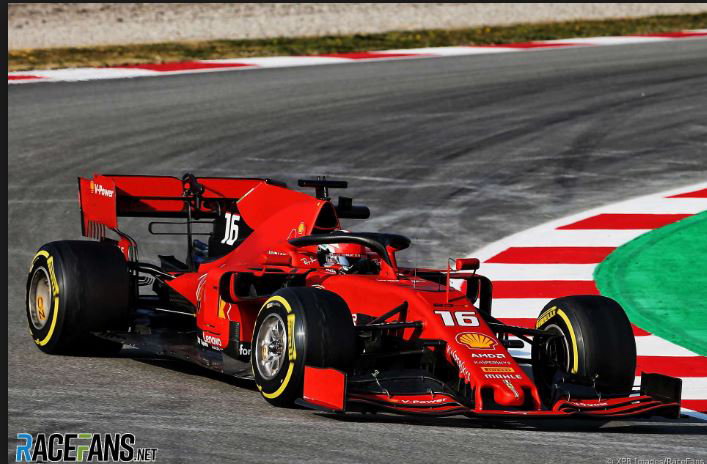F1 Car: (19, 167, 688, 434)
